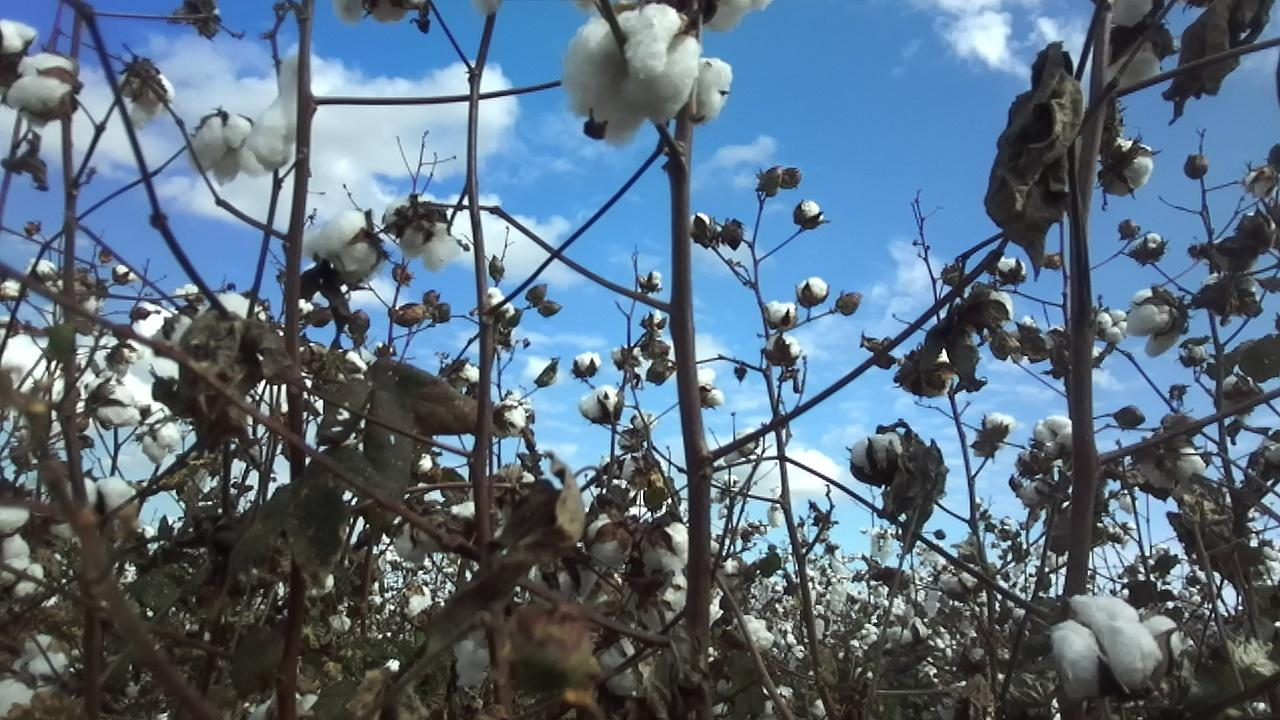cotton_ready: (563, 4, 699, 145), (1052, 595, 1182, 691), (622, 517, 707, 626), (533, 512, 622, 594), (256, 47, 312, 169), (167, 290, 270, 353), (189, 113, 260, 190), (387, 199, 462, 270), (301, 211, 379, 277), (4, 53, 79, 117), (1129, 286, 1185, 357), (125, 72, 175, 129), (1104, 142, 1155, 195), (850, 433, 907, 480), (694, 58, 734, 121), (700, 0, 774, 30), (335, 0, 409, 22), (0, 22, 39, 59)
